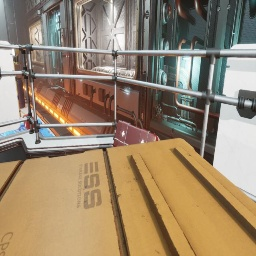EmergencyPhone ,: (28, 61, 29, 66)
FirstAidBox ,: (113, 120, 160, 147), (23, 112, 34, 130)
NitrogenTank ,: (23, 84, 23, 87)
SafetySwitchPanel ,: (61, 29, 66, 47), (26, 58, 28, 69)
